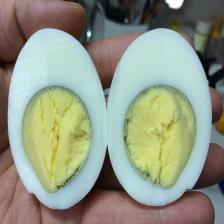egg: (107, 26, 213, 208), (7, 27, 107, 211)
